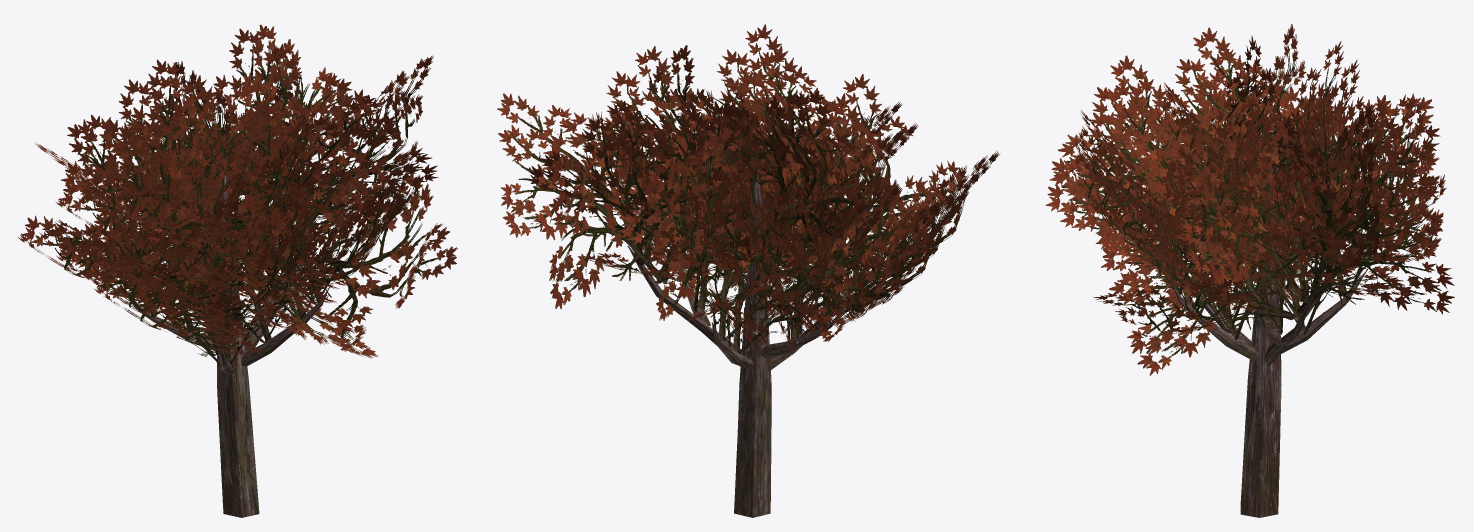
Rendered from shu.fbx.
3 renders of one model, left to right at view 1: azimuth 30°, elevation 25°; view 2: azimuth 150°, elevation 25°; view 3: azimuth 270°, elevation 25°, orthographic. The views are drawn at different scales.
Visible parts, largest first — view 1: polySurface21, polySurface23, polySurface31, polySurface19, polySurface27, polySurface29, polySurface24, polySurface36, polySurface18, polySurface35, pCylinder5, polySurface32 (+9 smaller); view 2: polySurface19, polySurface35, polySurface20, polySurface36, polySurface27, polySurface26, polySurface29, pCylinder5, polySurface18, polySurface31, polySurface34, polySurface28 (+10 smaller); view 3: polySurface19, polySurface20, polySurface23, polySurface21, polySurface35, polySurface29, polySurface18, pCylinder5, polySurface22, polySurface24, polySurface31, polySurface36 (+11 smaller).
Part boxes in pixels (x1=…): polySurface21: x1=204, y1=160, x2=457, y2=358; polySurface23: x1=183, y1=100, x2=419, y2=303; polySurface31: x1=82, y1=146, x2=319, y2=350; polySurface19: x1=214, y1=25, x2=438, y2=221; polySurface27: x1=18, y1=114, x2=252, y2=318; polySurface29: x1=84, y1=59, x2=319, y2=260; polySurface24: x1=170, y1=117, x2=403, y2=320; polySurface36: x1=45, y1=95, x2=252, y2=274; polySurface18: x1=169, y1=28, x2=403, y2=218; polySurface35: x1=35, y1=61, x2=292, y2=231; pCylinder5: x1=217, y1=150, x2=259, y2=517; polySurface32: x1=84, y1=152, x2=318, y2=355; polySurface19: x1=497, y1=45, x2=737, y2=265; polySurface35: x1=644, y1=91, x2=866, y2=320; polySurface20: x1=548, y1=101, x2=786, y2=309; polySurface36: x1=688, y1=90, x2=932, y2=354; polySurface27: x1=727, y1=112, x2=968, y2=329; polySurface26: x1=617, y1=127, x2=866, y2=343; polySurface29: x1=673, y1=45, x2=918, y2=265; pCylinder5: x1=734, y1=157, x2=771, y2=517; polySurface18: x1=543, y1=46, x2=789, y2=265; polySurface31: x1=761, y1=74, x2=999, y2=292; polySurface34: x1=641, y1=137, x2=881, y2=355; polySurface28: x1=700, y1=127, x2=940, y2=343; polySurface19: x1=1192, y1=104, x2=1417, y2=305; polySurface20: x1=1272, y1=95, x2=1454, y2=316; polySurface23: x1=1045, y1=81, x2=1262, y2=294; polySurface21: x1=1093, y1=135, x2=1300, y2=375; polySurface35: x1=1243, y1=24, x2=1443, y2=258; polySurface29: x1=1132, y1=27, x2=1363, y2=228; polySurface18: x1=1179, y1=90, x2=1407, y2=300; pCylinder5: x1=1240, y1=136, x2=1281, y2=517; polySurface22: x1=1121, y1=122, x2=1333, y2=334; polySurface24: x1=1060, y1=100, x2=1271, y2=309; polySurface31: x1=1049, y1=55, x2=1278, y2=262; polySurface36: x1=1180, y1=36, x2=1416, y2=253.
Bounding box in the file's own units: 24.55 × 24.44 × 20.22.
